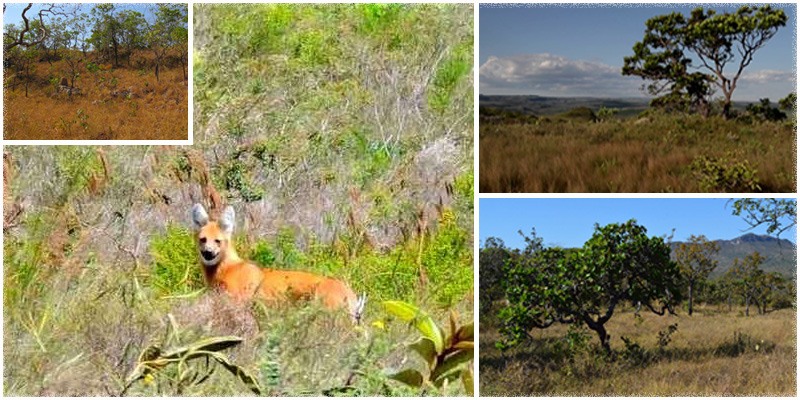LoboGuara: (182, 193, 370, 328)
